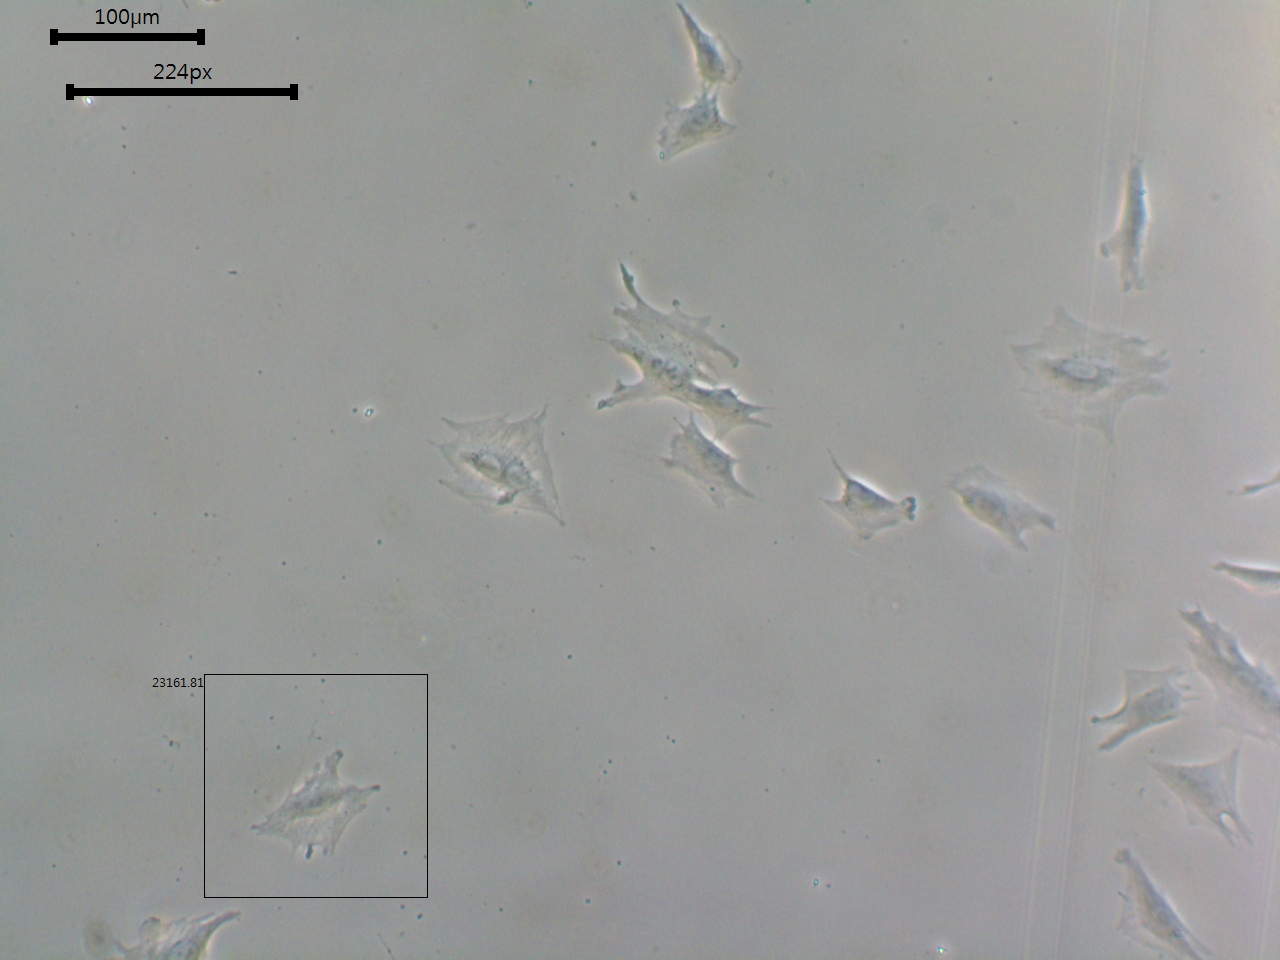dividing: (405, 401, 584, 541)
medium-spread: (1006, 291, 1171, 465), (247, 743, 383, 875)
small-polygonal: (1142, 744, 1270, 855), (807, 444, 928, 545), (1093, 149, 1155, 296), (658, 2, 749, 92)
small-spread: (933, 457, 1067, 556), (653, 408, 755, 516), (1087, 665, 1198, 757), (647, 89, 737, 179)
